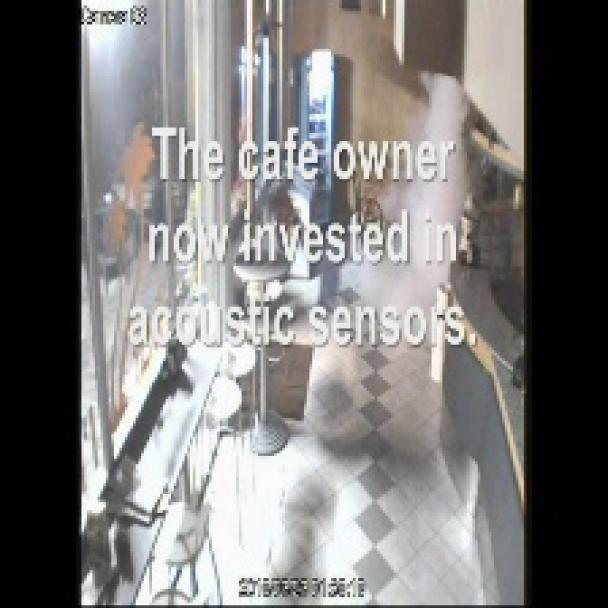smoke: (344, 59, 503, 390)
